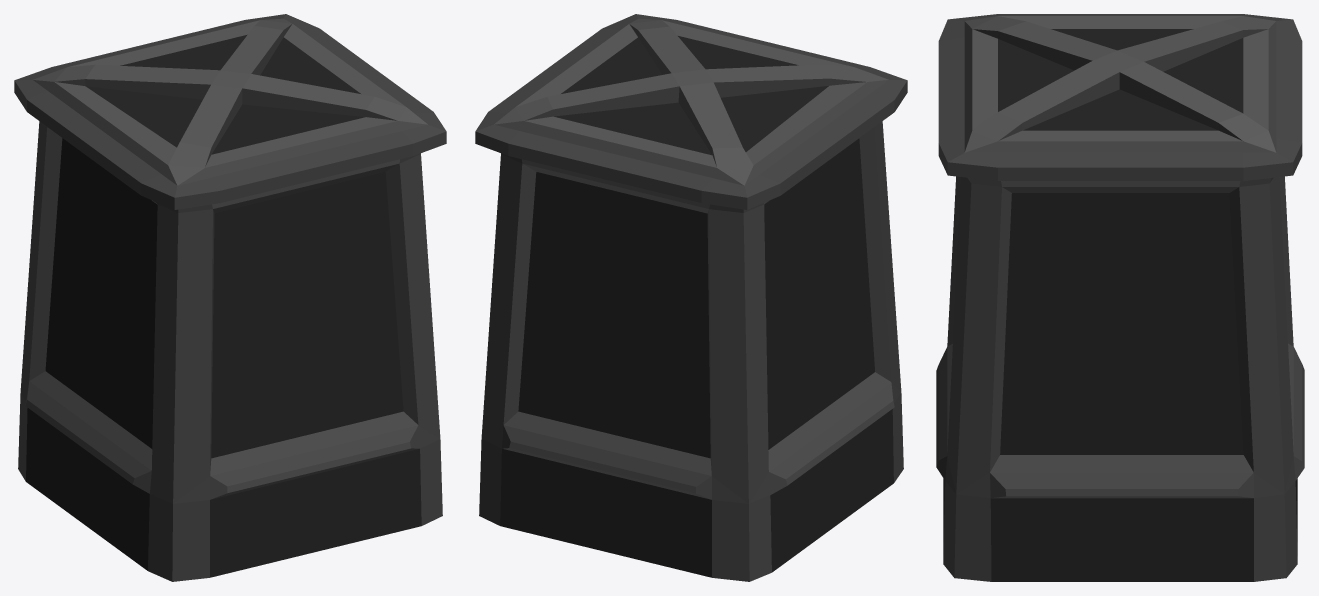
Rendered from SM_Prop_Compost_01.fbx.
3 renders of one model, left to right at view 1: azimuth 30°, elevation 25°; view 2: azimuth 150°, elevation 25°; view 3: azimuth 270°, elevation 25°, orthographic. The views are drawn at different scales.
Visible parts, largest first — view 1: SM_Prop_Compost_01; view 2: SM_Prop_Compost_01; view 3: SM_Prop_Compost_01.
Boxes of the visible parts, x1,y1,x2,y2 form: SM_Prop_Compost_01: (14,14,446,581); SM_Prop_Compost_01: (475,14,907,581); SM_Prop_Compost_01: (936,14,1304,581).
Size of the model in its own units: 85.7 by 113 by 84.3.
